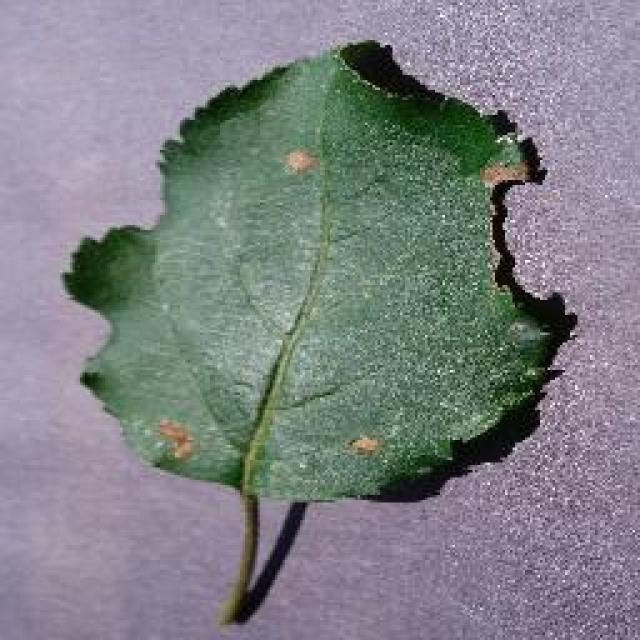Apple___Black_rot: (56, 37, 555, 505)
